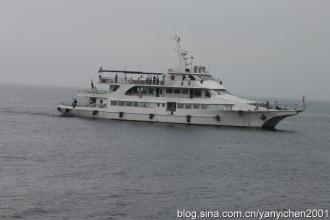yacht: (58, 45, 306, 127)
